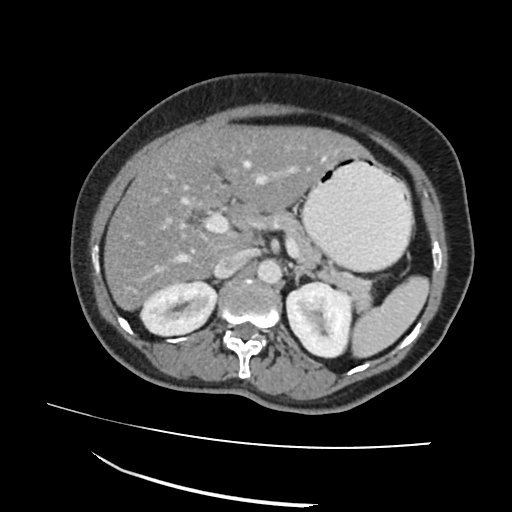aorta: (255, 257, 281, 284)
